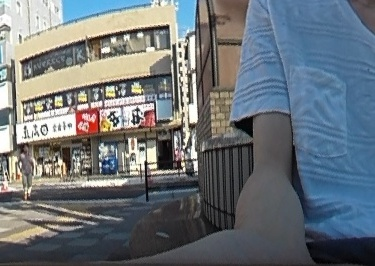person: (17, 148, 33, 199)
